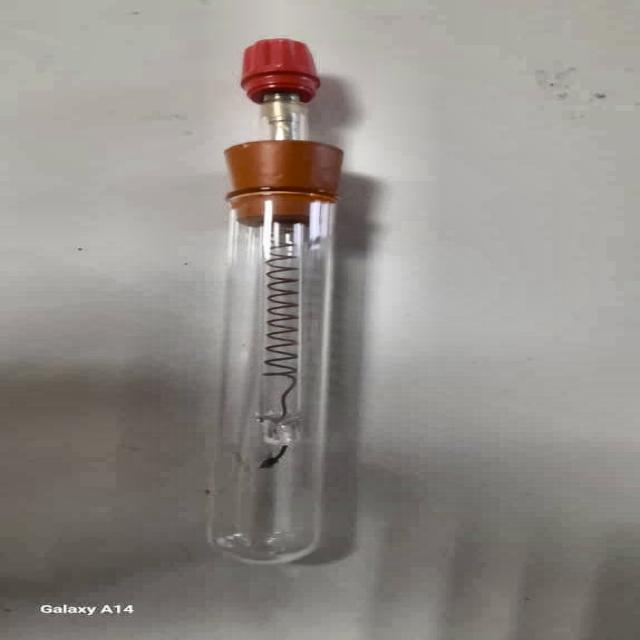Electrode: (178, 36, 362, 578)
